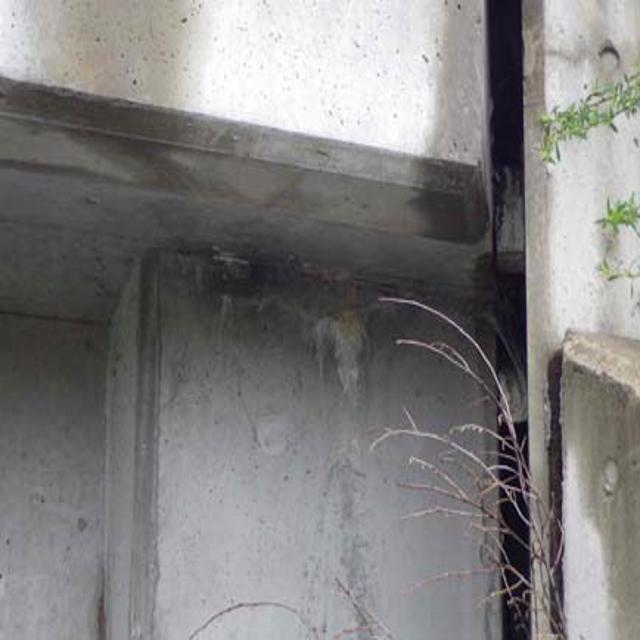freelime: (307, 271, 367, 400)
